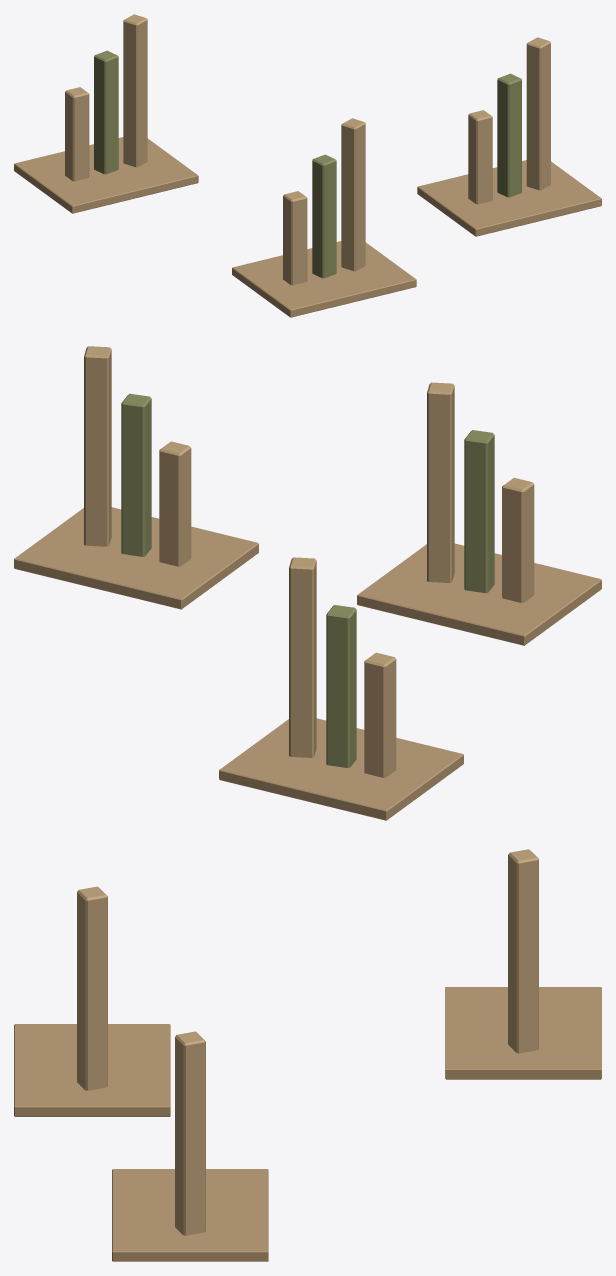
The model's file is warm_grass.glb.
3 renders of one model, top to bottom at view 1: azimuth 30°, elevation 25°; view 2: azimuth 150°, elevation 25°; view 3: azimuth 270°, elevation 25°, orthographic. The views are drawn at different scales.
Parts seen in each view (by area): view 1: grass_sample_dust, grass_sample_sand, grass_sample_grass; view 2: grass_sample_dust, grass_sample_sand, grass_sample_grass; view 3: grass_sample_dust, grass_sample_sand.
Boxes of the visible parts, <box> form: grass_sample_dust: <box>14,137,601,317</box>; grass_sample_sand: <box>65,14,550,285</box>; grass_sample_grass: <box>94,50,521,278</box>; grass_sample_dust: <box>14,507,601,820</box>; grass_sample_sand: <box>84,346,534,777</box>; grass_sample_grass: <box>121,393,494,767</box>; grass_sample_dust: <box>14,987,601,1261</box>; grass_sample_sand: <box>77,849,538,1235</box>.
Size of the model in its own units: 0.64 by 0.228 by 0.6.
